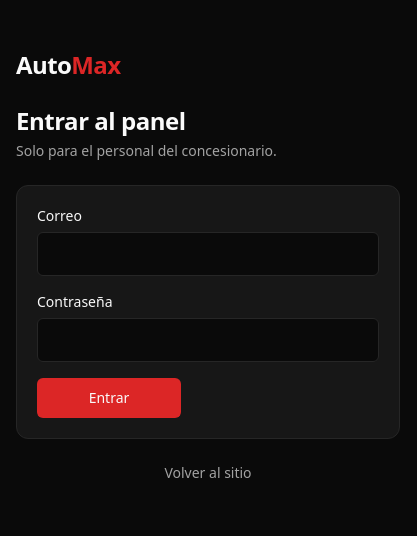
Scenario: inicio de sesión › 429 (límite de intentos): mensaje amable
Check: the heading "Entrar al panel" is shown, box left=16, top=104, right=186, bottom=137
In the field labelled "Correo": (208, 254) left=37, top=232, right=379, bottom=276, type "limite@automax.co"
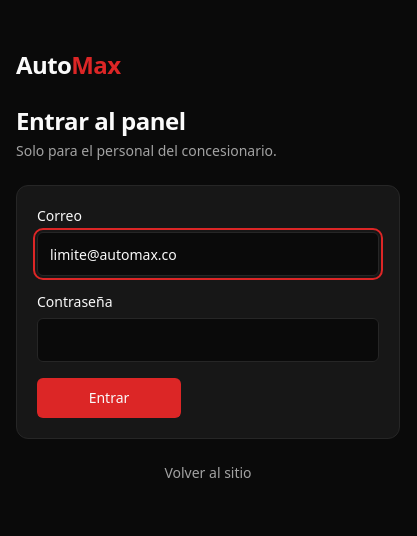
In the password field labelled "Contraseña": (208, 340) left=37, top=318, right=379, bottom=362, type "clave-correcta-123"
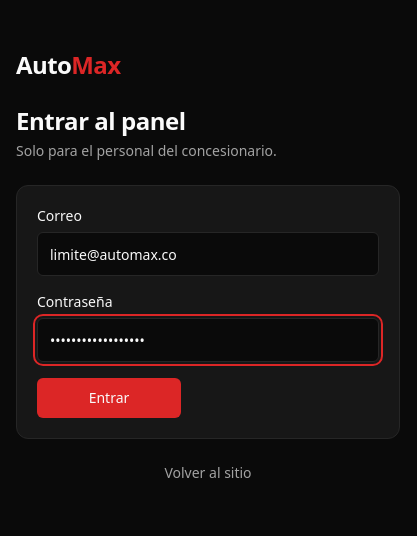
Click the button "Entrar": (109, 398) left=37, top=378, right=181, bottom=418
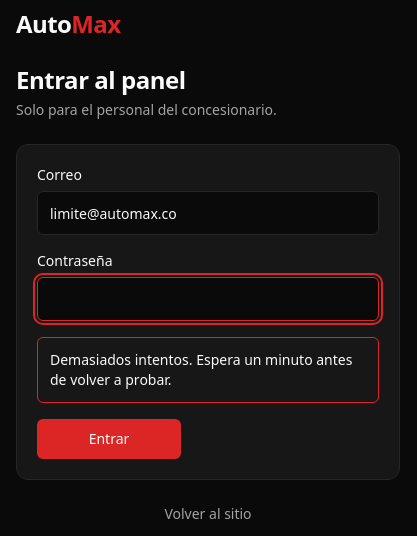
Check: the message shows "Espera un minuto", box left=50, top=350, right=352, bottom=389
